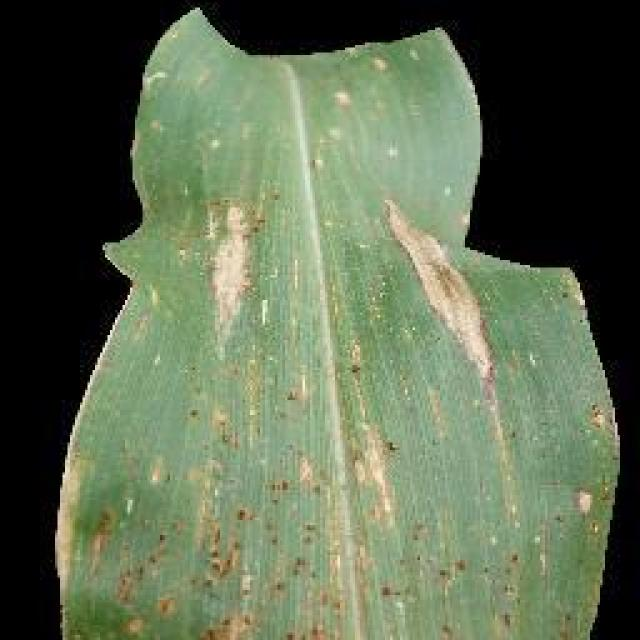Corn Common Rust: (132, 157, 548, 568)
